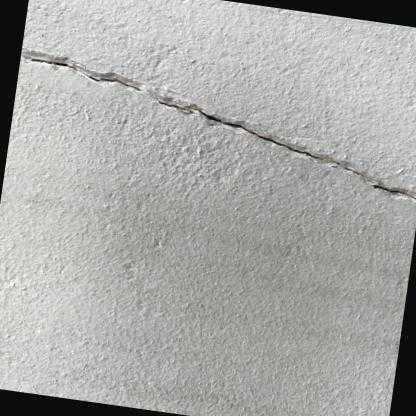crack: (193, 110, 322, 160), (29, 58, 141, 91), (371, 185, 416, 200), (156, 100, 190, 112)
